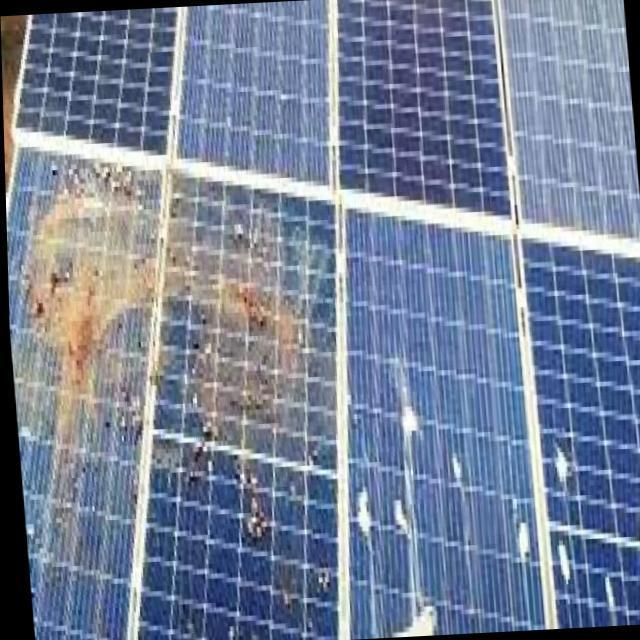faulty: (140, 176, 330, 640), (341, 216, 535, 636), (6, 157, 158, 640), (518, 245, 640, 629), (507, 0, 640, 233), (187, 0, 330, 177)
no faulty: (344, 0, 516, 220), (22, 7, 170, 138)
